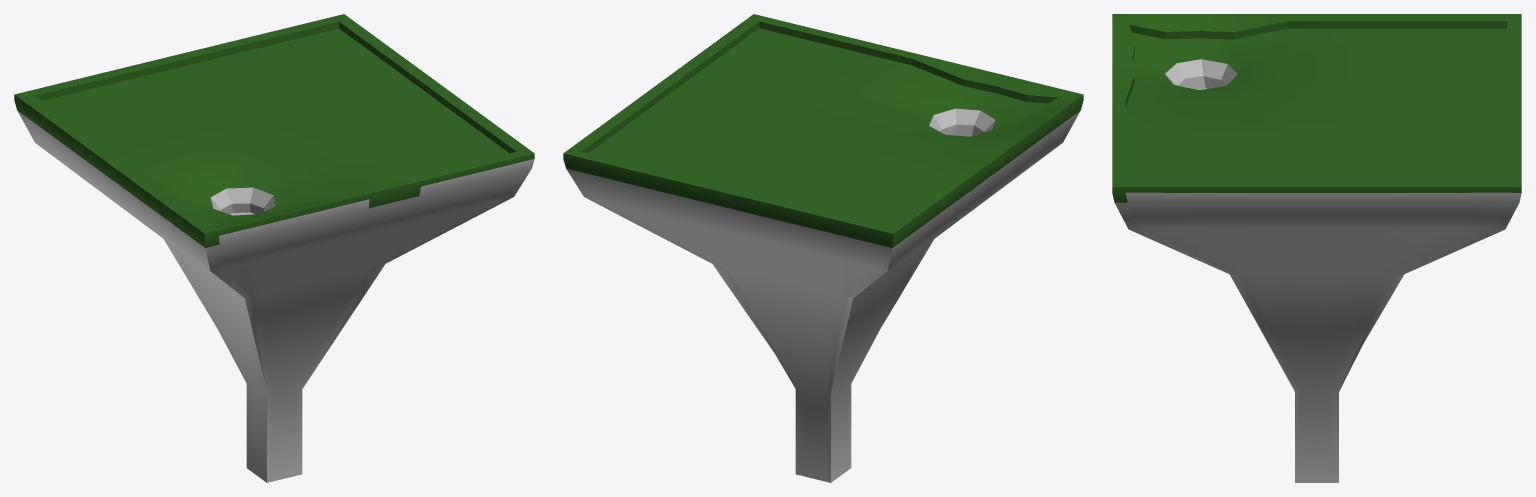
The model's file is SM_ISLA_3.fbx.
3 renders of one model, left to right at view 1: azimuth 30°, elevation 25°; view 2: azimuth 150°, elevation 25°; view 3: azimuth 270°, elevation 25°, orthographic. The views are drawn at different scales.
Parts seen in each view (by area): view 1: ISLA_1; view 2: ISLA_1; view 3: ISLA_1.
Boxes of the visible parts, bbox=[...] form: ISLA_1: bbox=[14, 14, 534, 482]; ISLA_1: bbox=[563, 14, 1083, 482]; ISLA_1: bbox=[1112, 14, 1521, 482].
Size of the model in its own units: 33.74 by 33.93 by 33.74.
